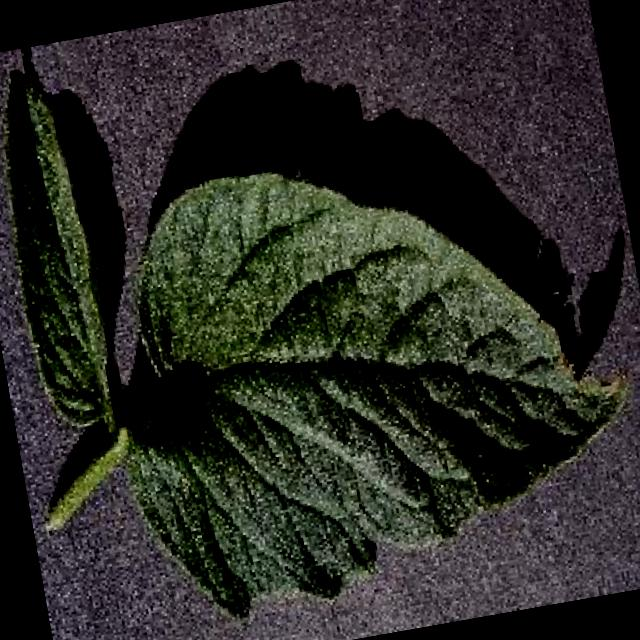healthy: (7, 74, 625, 633)
